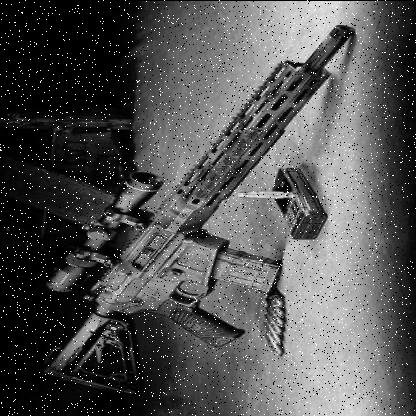rifle: (21, 51, 351, 403)
